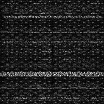lte: (1, 70, 104, 76), (1, 15, 104, 18)
